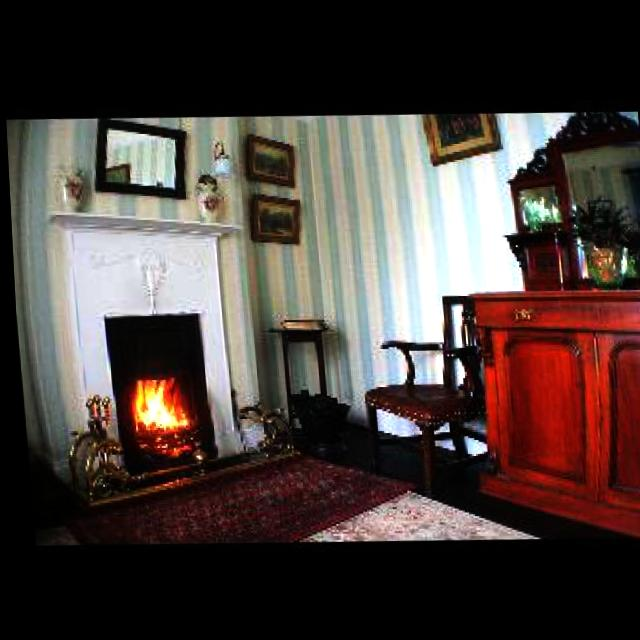helmet: (118, 369, 195, 449)
